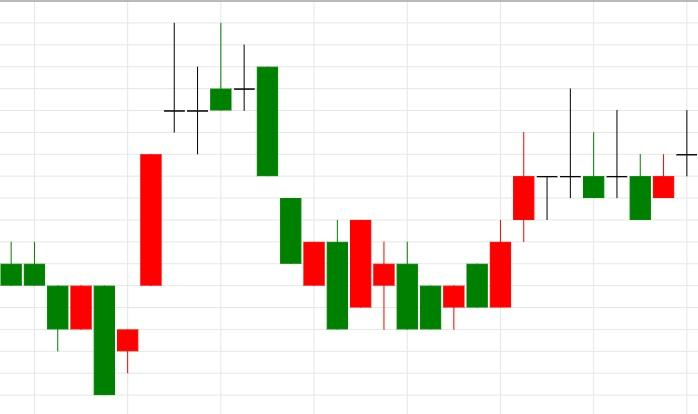shooting_star_fall: (93, 23, 232, 396), (396, 88, 606, 330)
